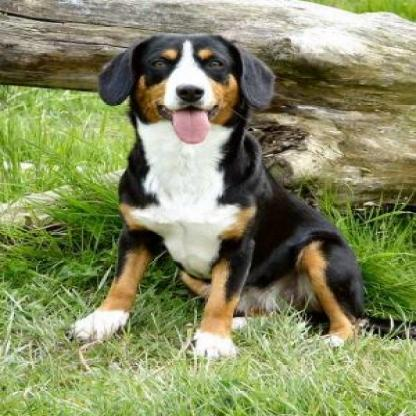EntleBucher: (64, 31, 413, 364)
